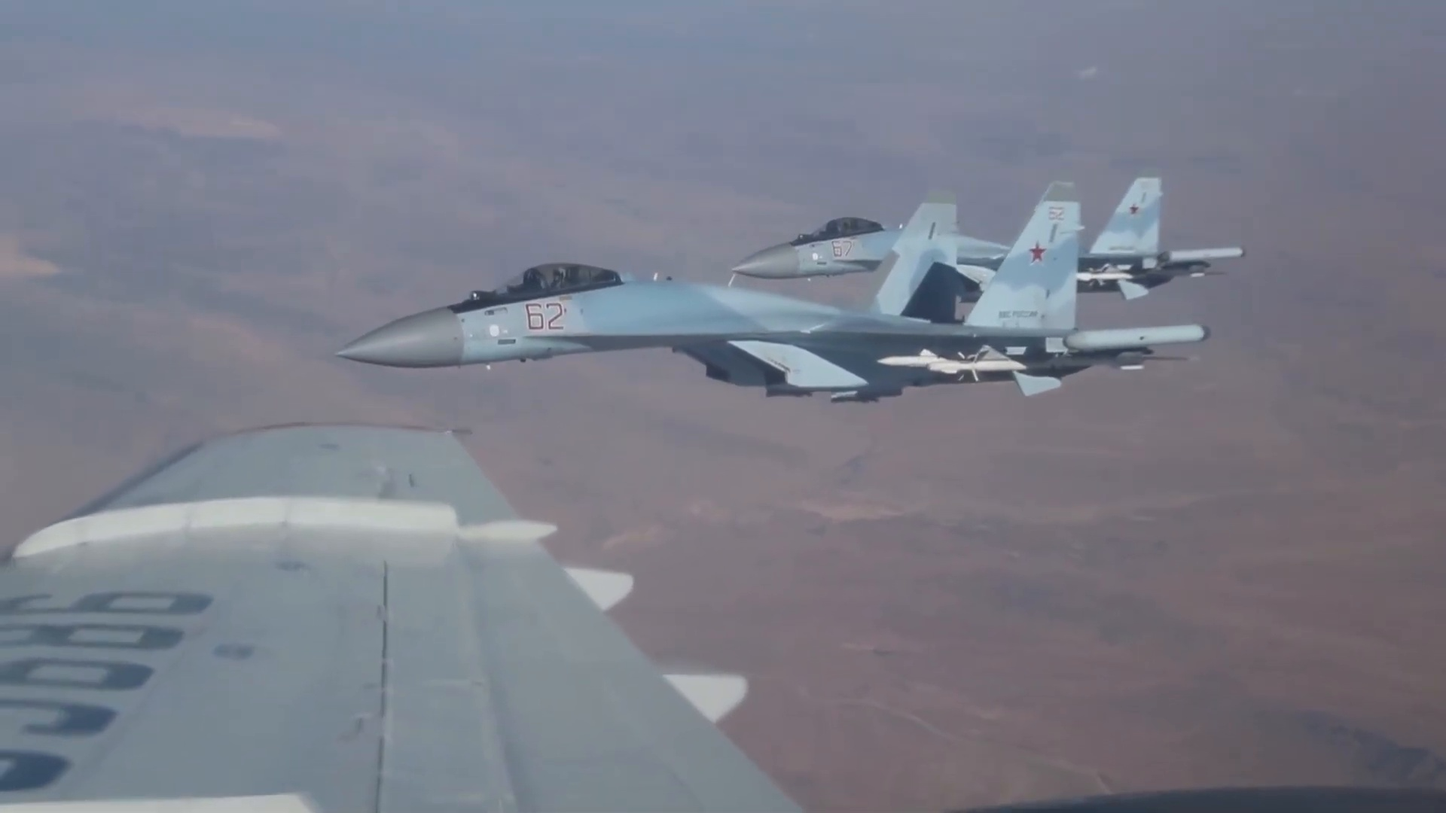Su35: (335, 182, 1209, 404), (732, 172, 1245, 298)
